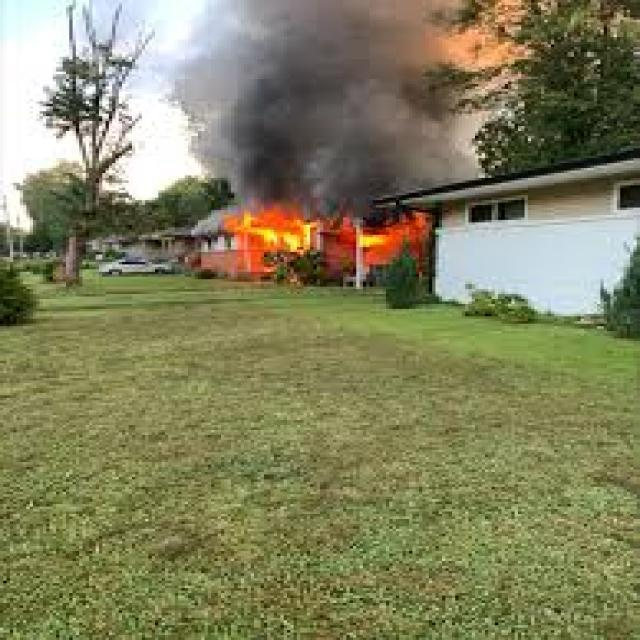Fire: (235, 202, 444, 294)
Smoke: (178, 0, 480, 208)
